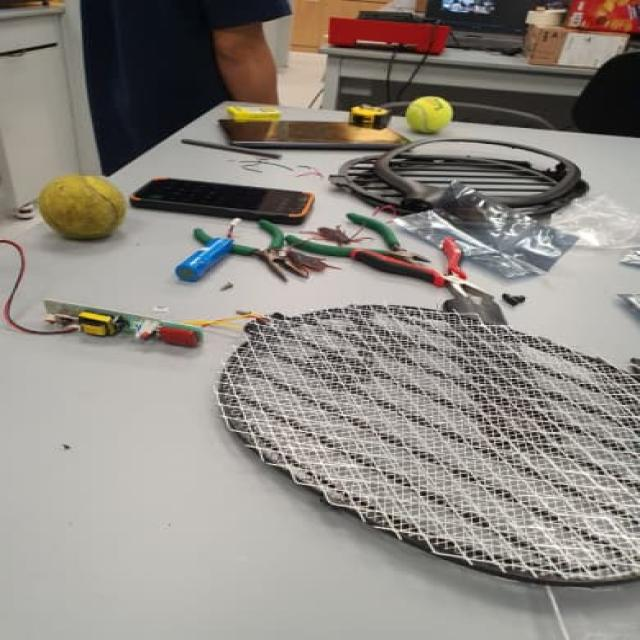Cockroach: (272, 237, 342, 284), (304, 213, 381, 255)
